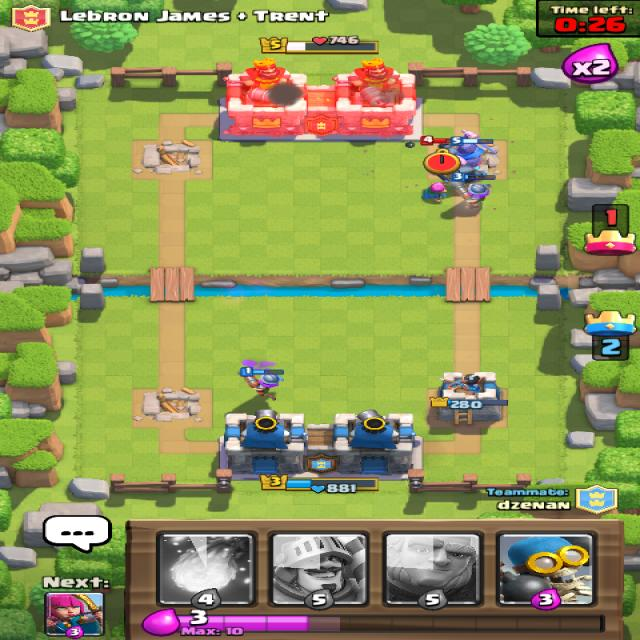Enemy-MiniPEKKA: (418, 134, 451, 148)
Player-Archer: (419, 180, 449, 203)
Player-Knight: (451, 128, 496, 170)
Player-Musketeer: (451, 171, 496, 210), (237, 365, 284, 401)
